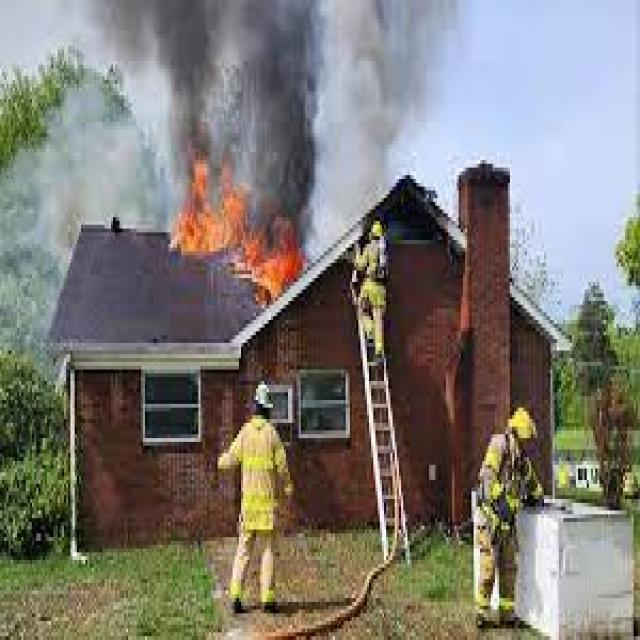Fire: (176, 164, 338, 302)
Smoke: (121, 0, 399, 202)
